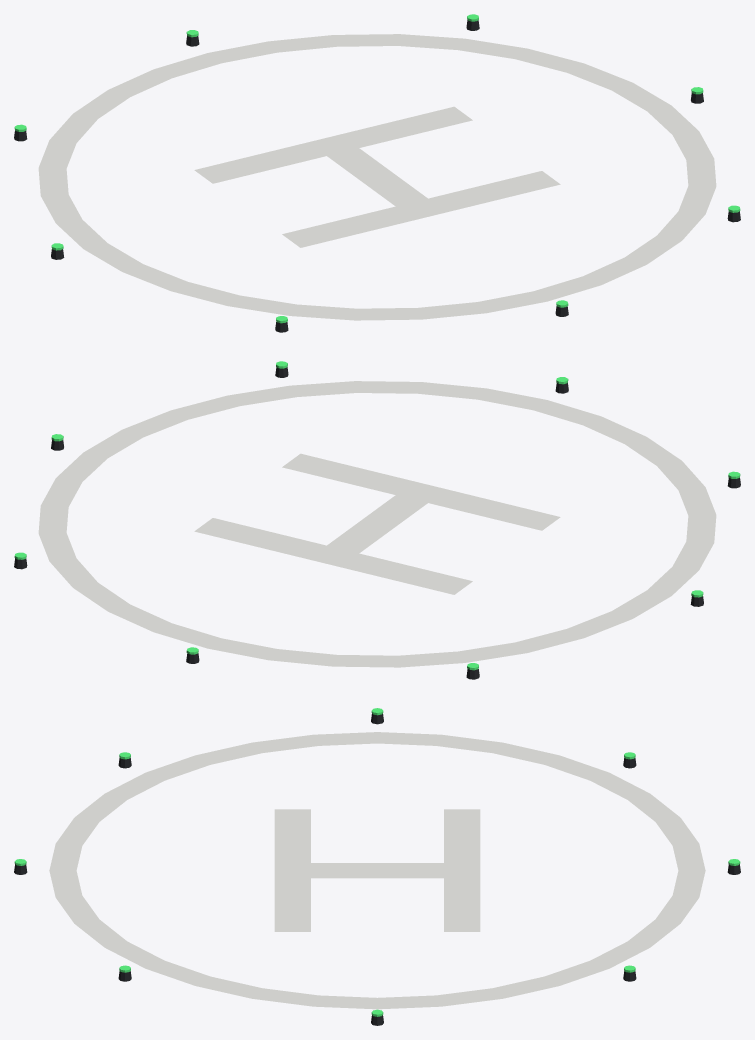
File: let_helipad.glb
3 views of the same model, one above another, from view 1: azimuth 30°, elevation 25°; view 2: azimuth 150°, elevation 25°; view 3: azimuth 270°, elevation 25° (orthographic). The views are drawn at different scales.
Visible parts, largest first — view 1: dum, noc; view 2: dum, noc; view 3: dum, noc.
Boxes of the visible parts, left/top/right/bottom form: dum: left=14, top=20, right=740, bottom=332; noc: left=14, top=14, right=740, bottom=323; dum: left=14, top=367, right=740, bottom=679; noc: left=14, top=361, right=740, bottom=670; dum: left=14, top=713, right=740, bottom=1025; noc: left=14, top=708, right=740, bottom=1016.
Size of the model in its own units: 12.02 by 0.2003 by 12.02.
1 material, 1 textured.
